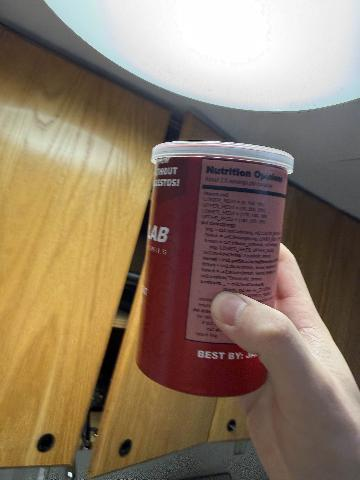Red Can: (137, 142, 293, 396)
